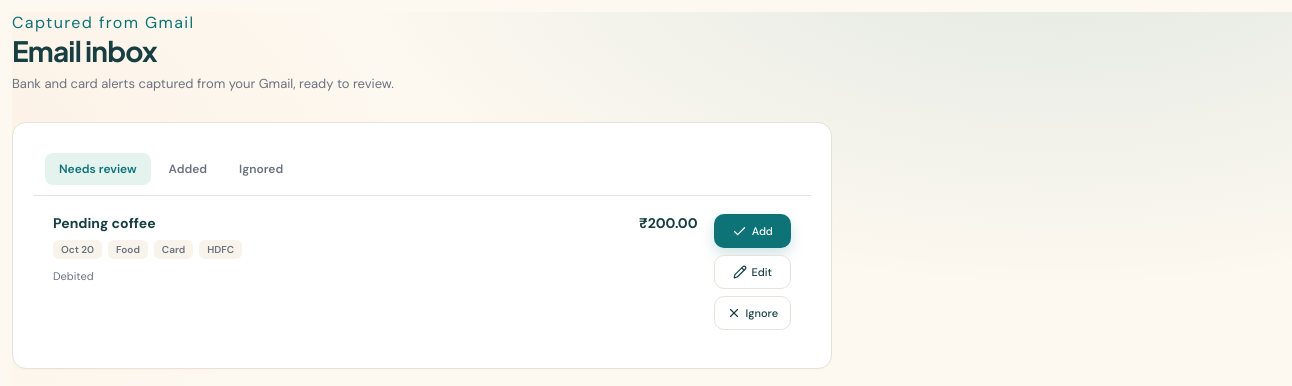
InboxPage › switches tabs, refetches, and hides review actions outside pending
Expected: the text "Pending coffee" is shown, x1=53 y1=214 x2=156 y2=232
Expected: the button "Add" is shown, x1=714 y1=214 x2=791 y2=248
Click the tab "Added".
click(188, 169)  # box x1=155 y1=153 x2=221 y2=185
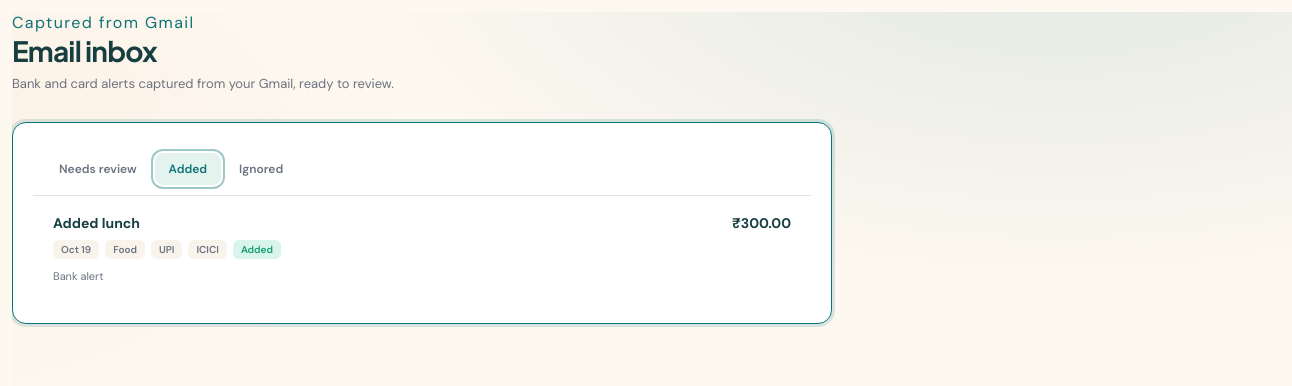
Now the text "Added lunch" is shown, box x1=53 y1=214 x2=140 y2=232
Now the button "Edit" is gone
